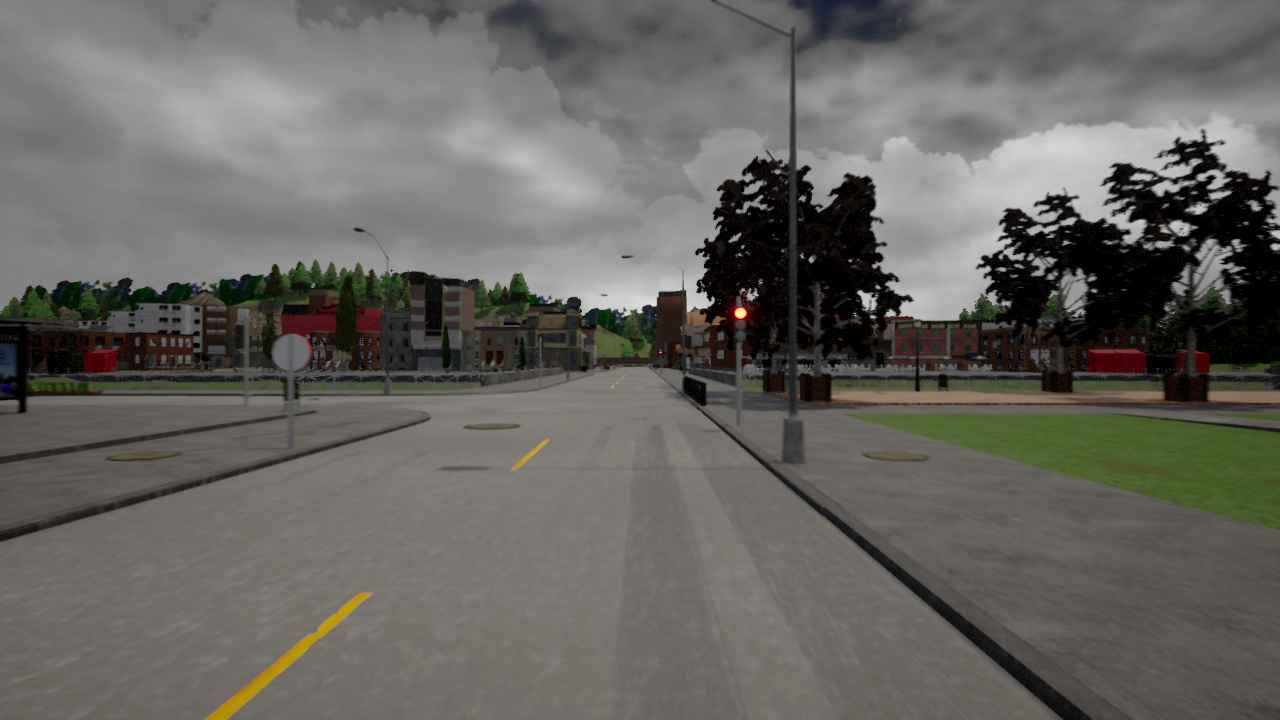red: (732, 305, 748, 344)
